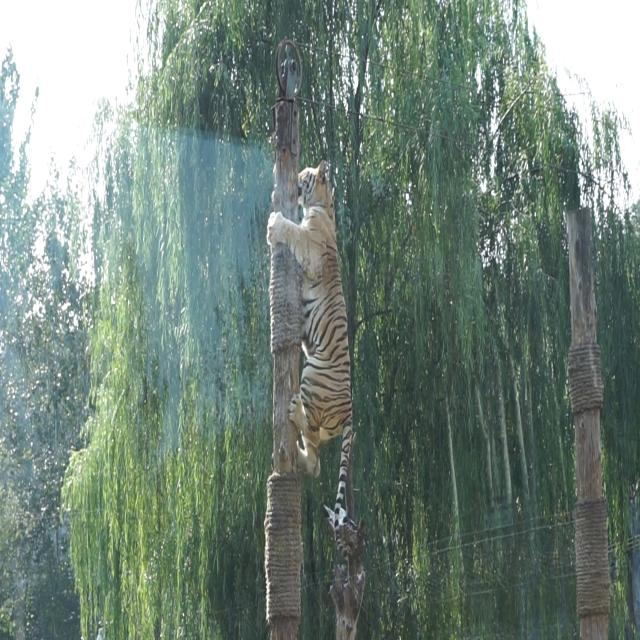Tiger: (265, 162, 387, 524)
